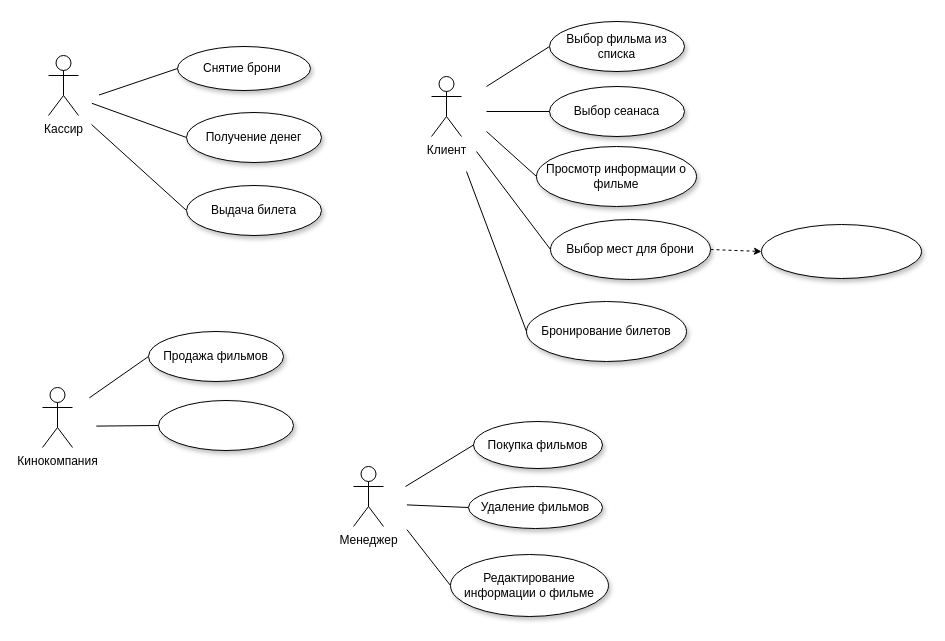
This 945x641 diagram has some shape labels left out. Here are the shapes that lost their labels. From the top down, the centre of each, then its label:
pixel 842 253: Контроль отображения занятых мест
pixel 227 427: Получение прибыли
